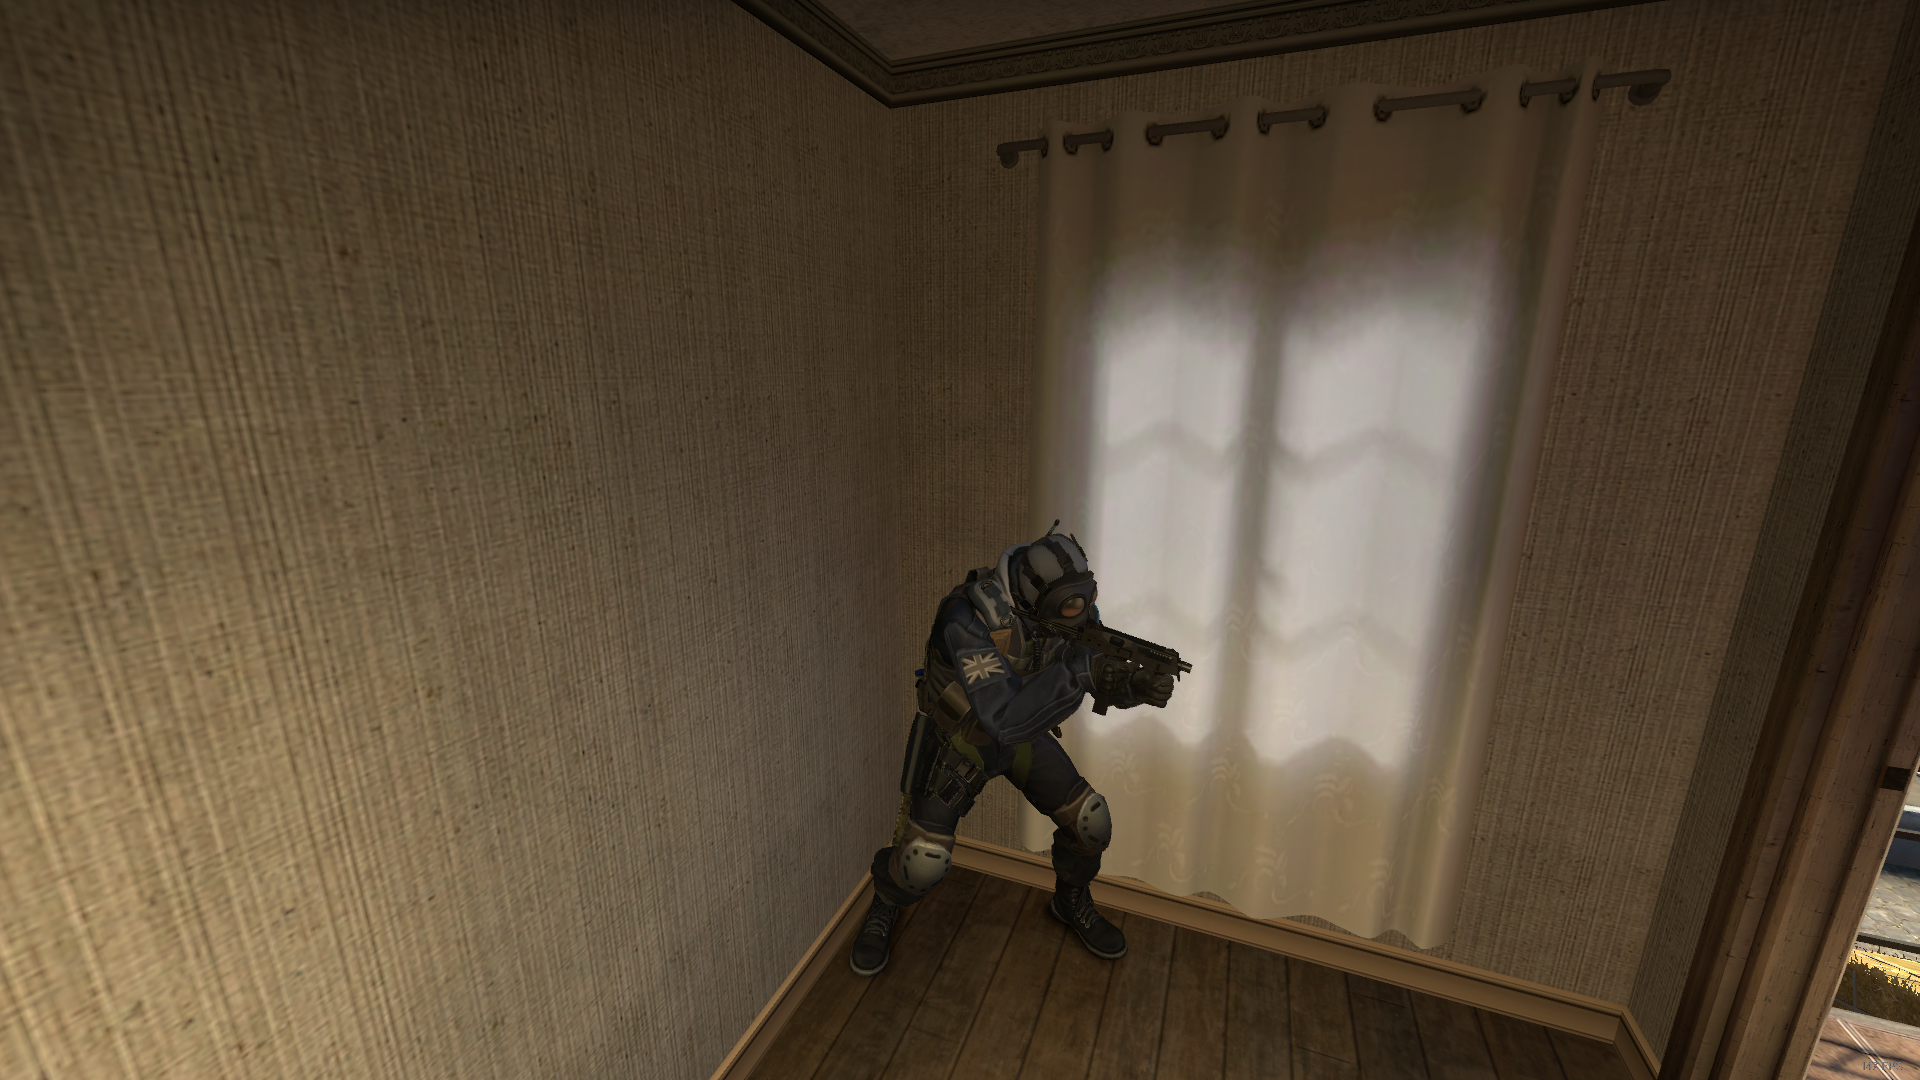ct: (833, 508, 1189, 1011)
